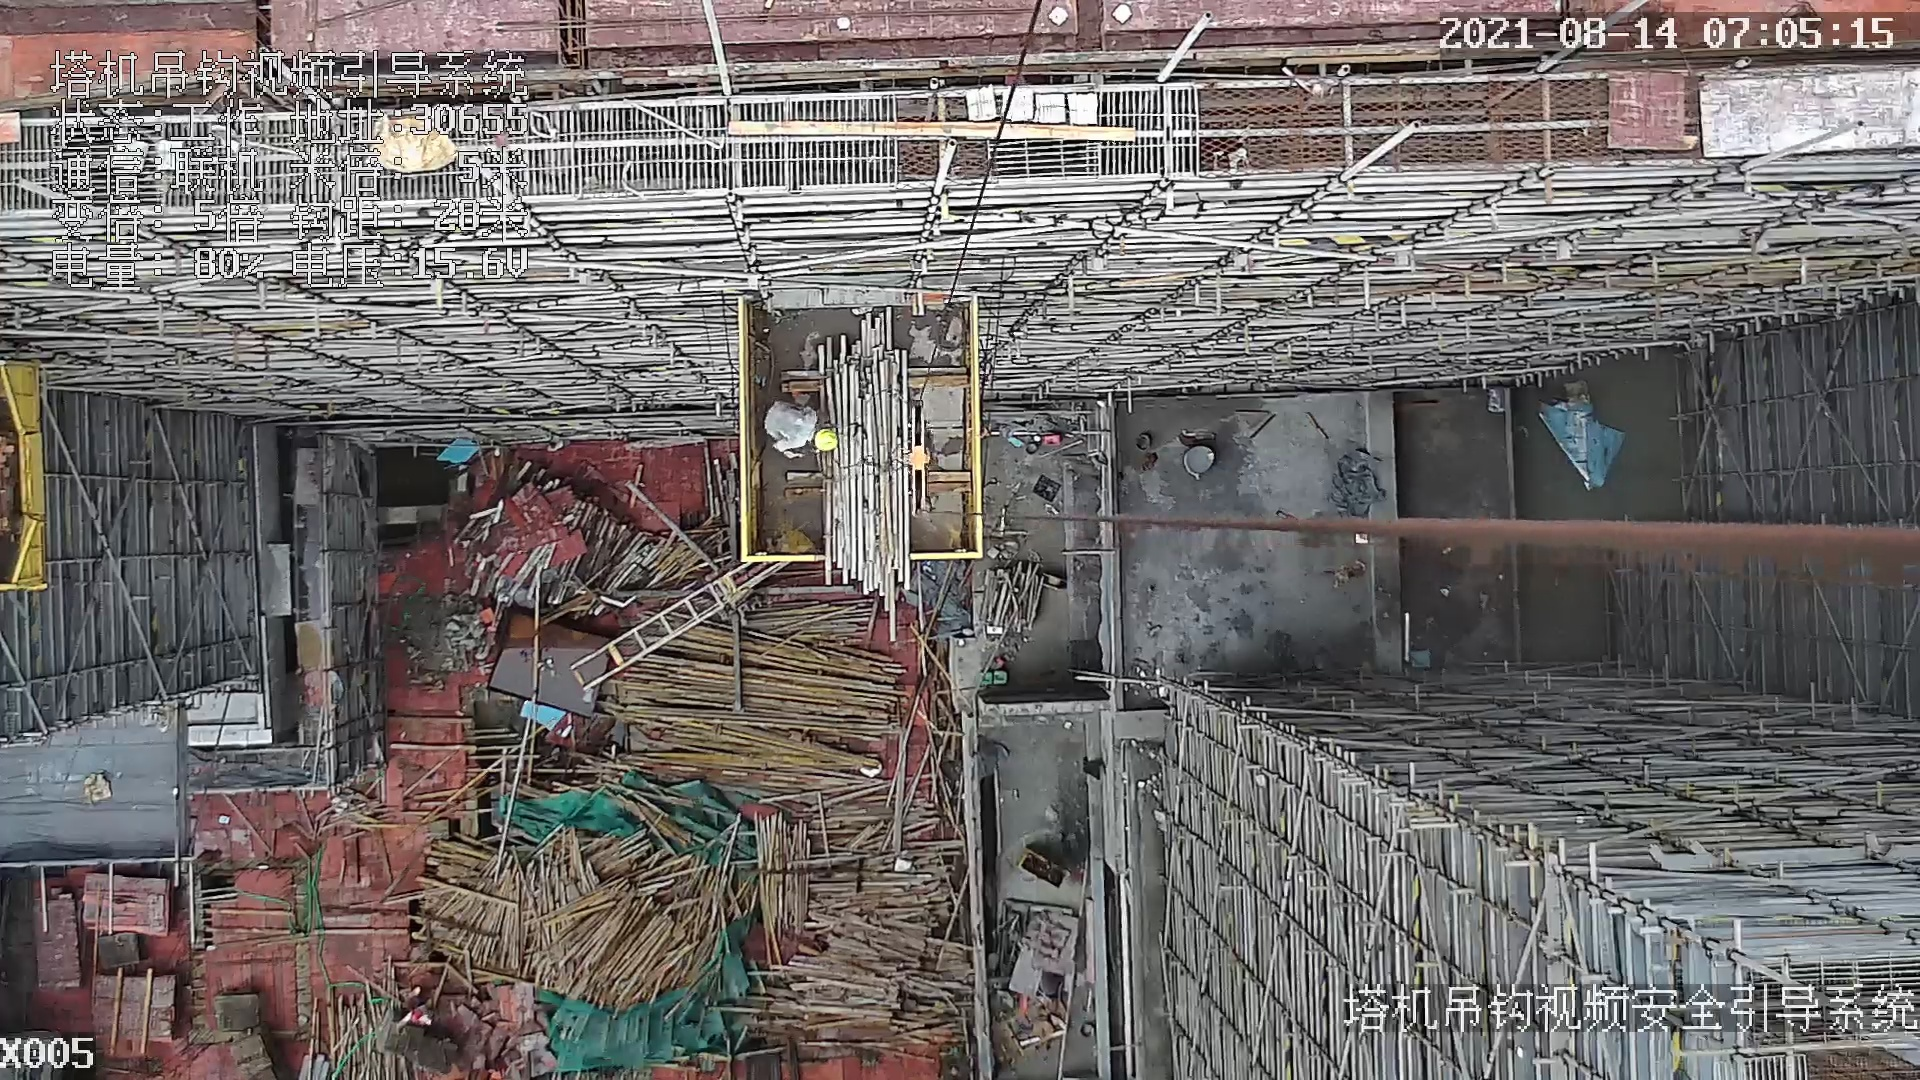helmet: (815, 427, 843, 454)
hook: (903, 397, 932, 515)
person: (756, 401, 858, 465)
